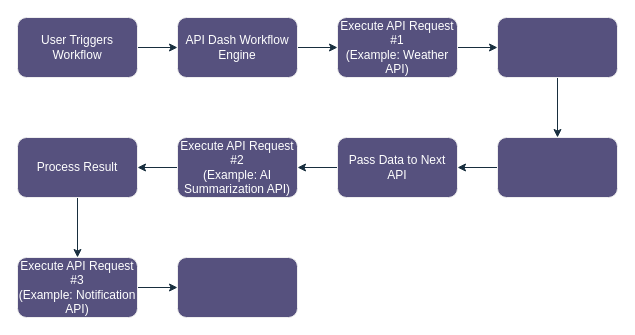
Some shapes in this 635 by 335 pixel diagram are drawn without their labels. Each missing label, with the centre of its shape:
"Extract Required Data (Example: temp, forecast)" goes at [557,167].
"Receive API Responses" goes at [557,47].
"Return Final Output to User" goes at [237,287].
